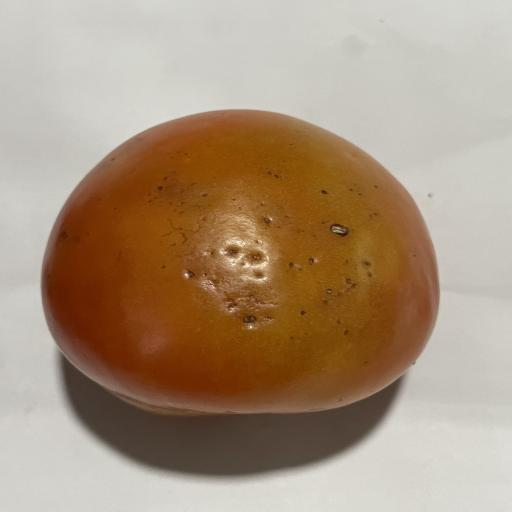ripe: (42, 110, 439, 415)
